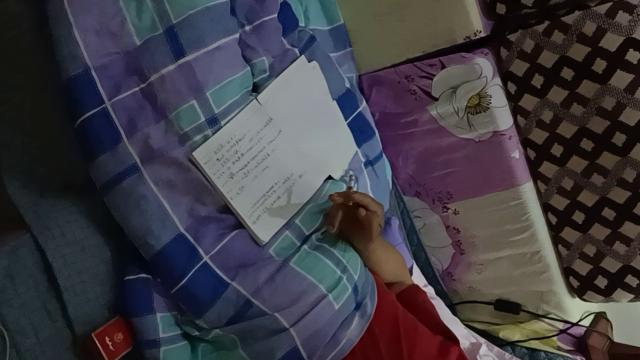Cigarette: (346, 175, 354, 205)
